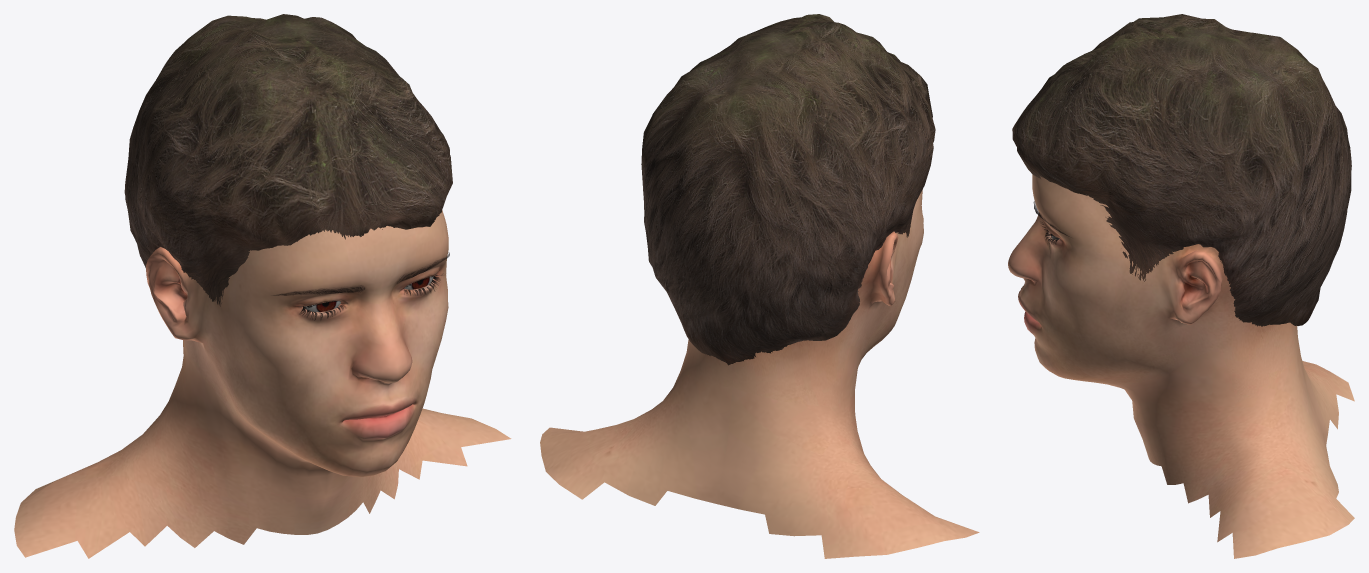
File: head.glb
The picture shows the model from 3 angles, left to right: view 1: azimuth 30°, elevation 25°; view 2: azimuth 150°, elevation 25°; view 3: azimuth 270°, elevation 25°; orthographic projection. The views are drawn at different scales.
Parts seen in each view (by area): view 1: skin, hair, brows; view 2: hair, skin; view 3: hair, skin.
Boxes of the visible parts, x1=… form: skin: x1=14, y1=210, x2=511, y2=558; hair: x1=124, y1=14, x2=452, y2=306; brows: x1=273, y1=252, x2=449, y2=295; hair: x1=641, y1=14, x2=935, y2=365; skin: x1=540, y1=189, x2=979, y2=558; hair: x1=1012, y1=14, x2=1351, y2=326; skin: x1=1008, y1=174, x2=1354, y2=558.
Bounding box in the file's own units: 0.3152 × 0.3045 × 0.2232.
5 materials, 5 textured.
